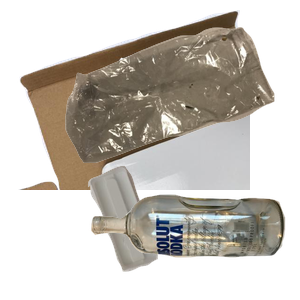cardboard: (16, 10, 256, 190)
glass: (88, 192, 300, 300)
plastic: (85, 163, 235, 300)
trash: (63, 24, 300, 179)
